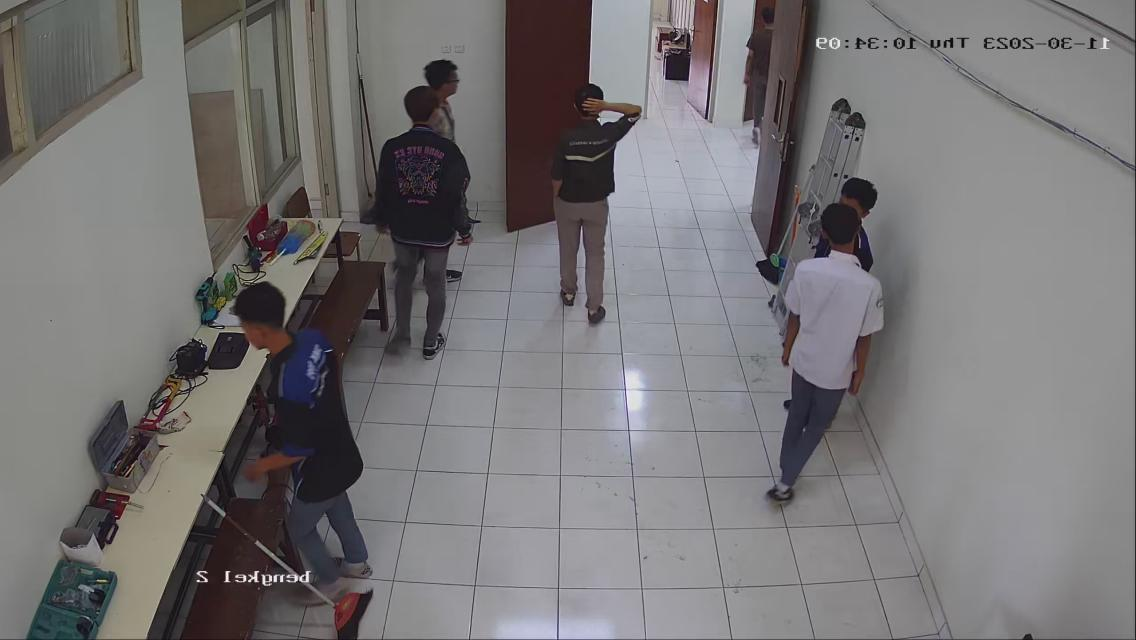Person-Crowd: (759, 174, 884, 506), (273, 267, 352, 640), (548, 77, 648, 328), (386, 56, 466, 358)
